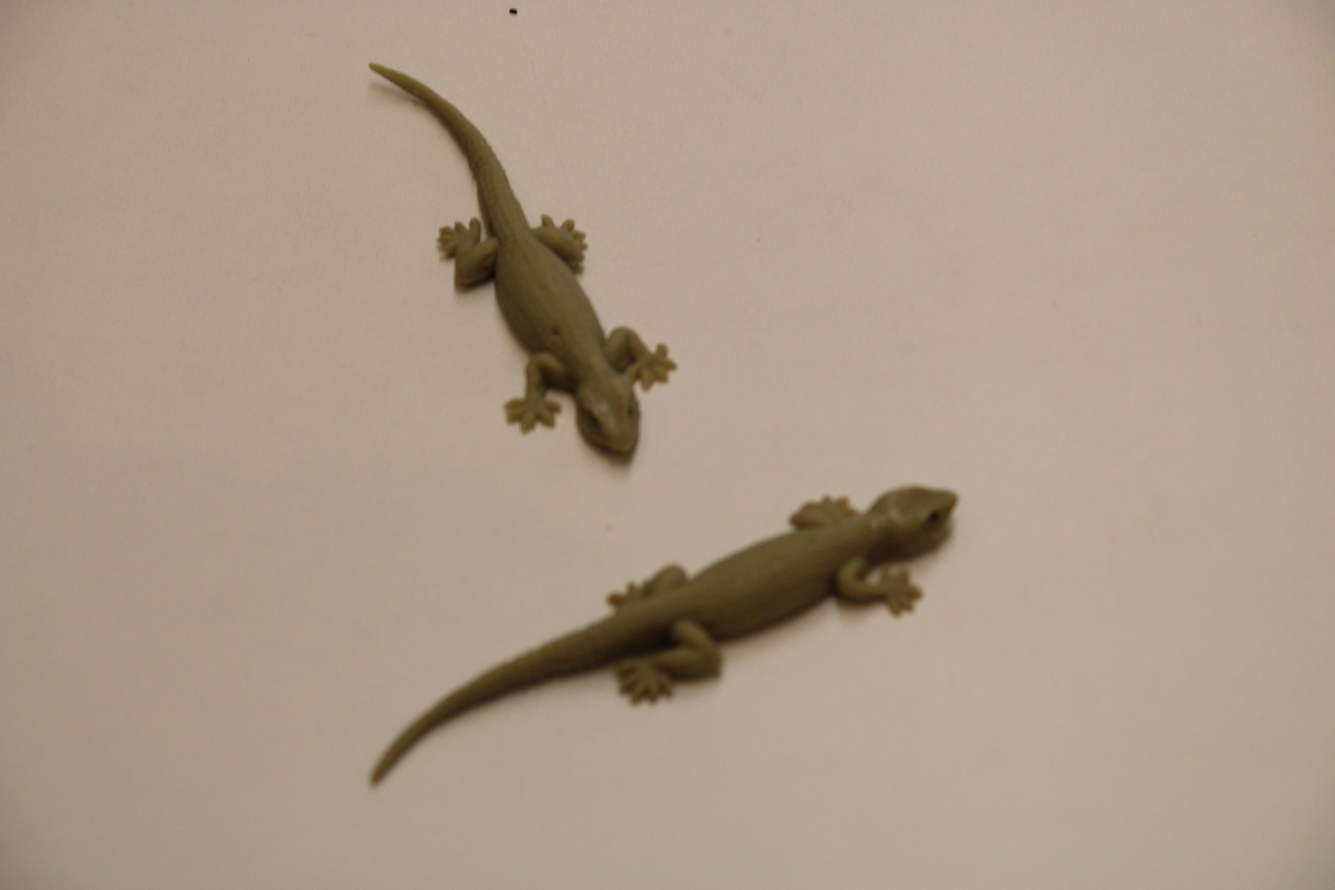lizard: (307, 465, 962, 789), (359, 47, 685, 468)
